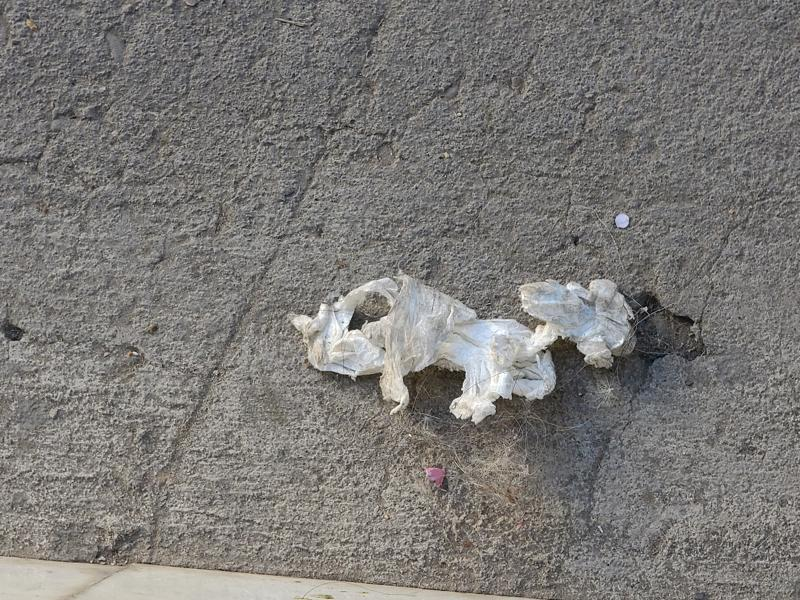papel: (291, 275, 635, 425)
